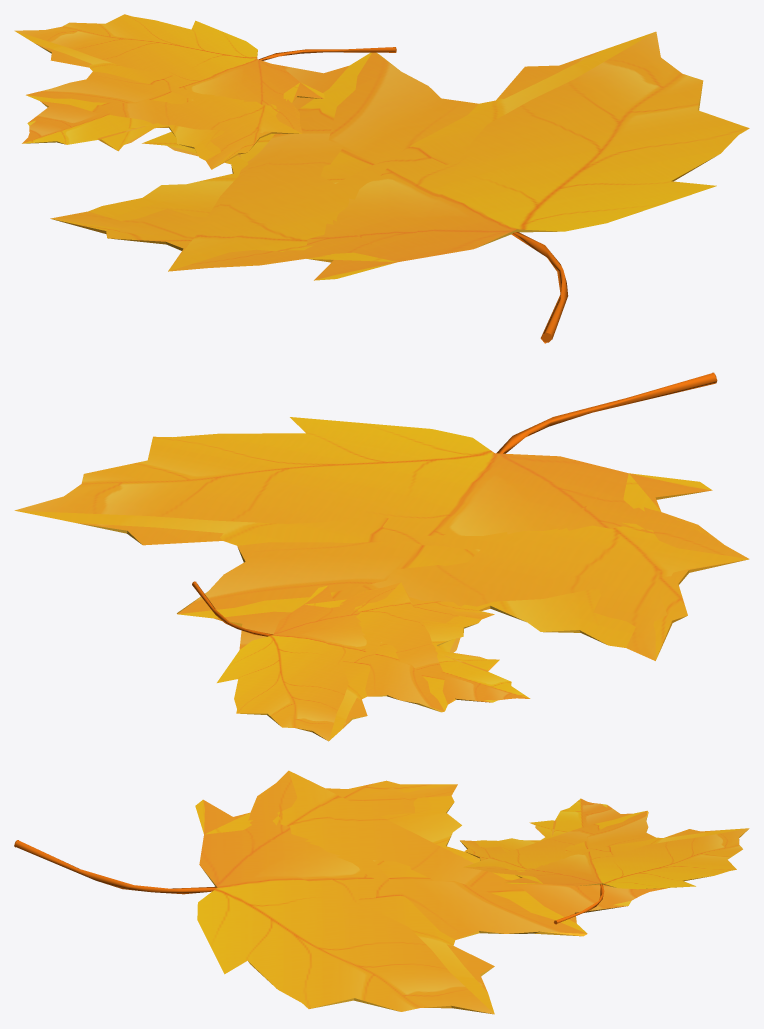
File: listadva.fbx
3 renders of one model, top to bottom at view 1: azimuth 30°, elevation 25°; view 2: azimuth 150°, elevation 25°; view 3: azimuth 270°, elevation 25°, orthographic. The views are drawn at different scales.
Visible parts, largest first — view 1: dvalista; view 2: dvalista; view 3: dvalista.
Part boxes in pixels (x1,y1,x2,y2): dvalista: (14,14,749,343); dvalista: (14,372,749,741); dvalista: (14,770,749,1014).
Bounding box in the file's own units: 24.87 × 1.58 × 31.78.
2 materials, 1 textured.
